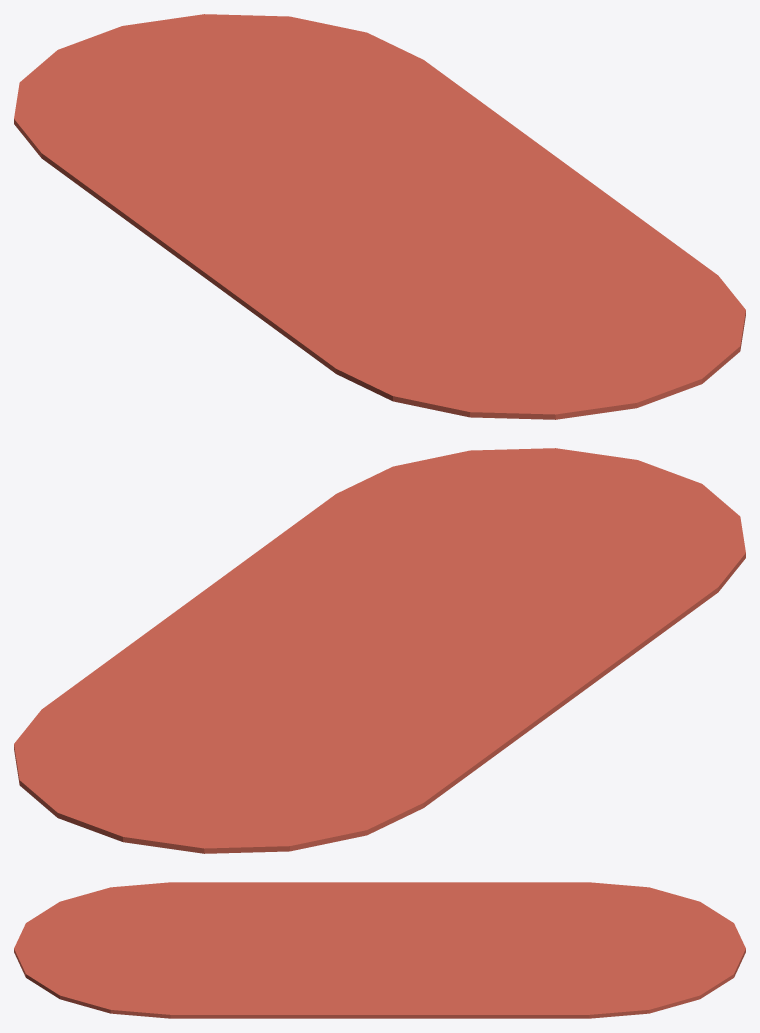
Rendered from Int_Carpet03_2.fbx.
3 views of the same model, one above another, from view 1: azimuth 30°, elevation 25°; view 2: azimuth 150°, elevation 25°; view 3: azimuth 270°, elevation 25° (orthographic). The views are drawn at different scales.
Parts seen in each view (by area): view 1: Int_Carpet03_2; view 2: Int_Carpet03_2; view 3: Int_Carpet03_2.
Boxes of the visible parts, x1,y1,x2,y2 form: Int_Carpet03_2: [14, 14, 745, 419]; Int_Carpet03_2: [14, 448, 745, 853]; Int_Carpet03_2: [14, 882, 745, 1018].
Size of what is drawn, in the model's own units: 150 by 350 by 2.
